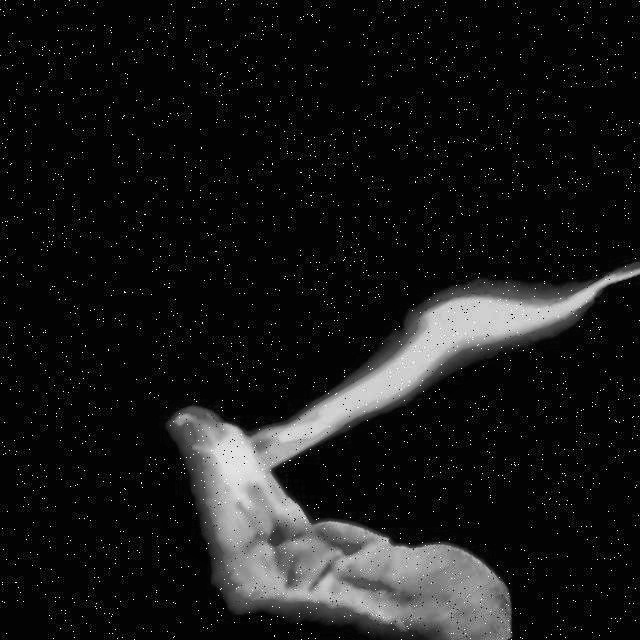Fire: (171, 168, 640, 542)
